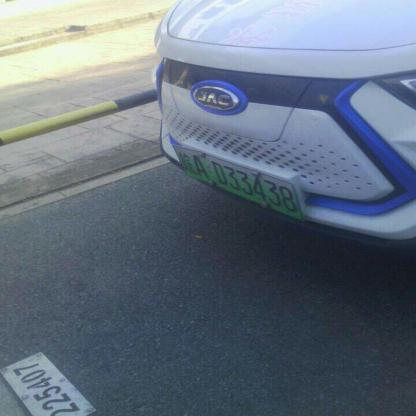lp: (173, 144, 303, 220)
